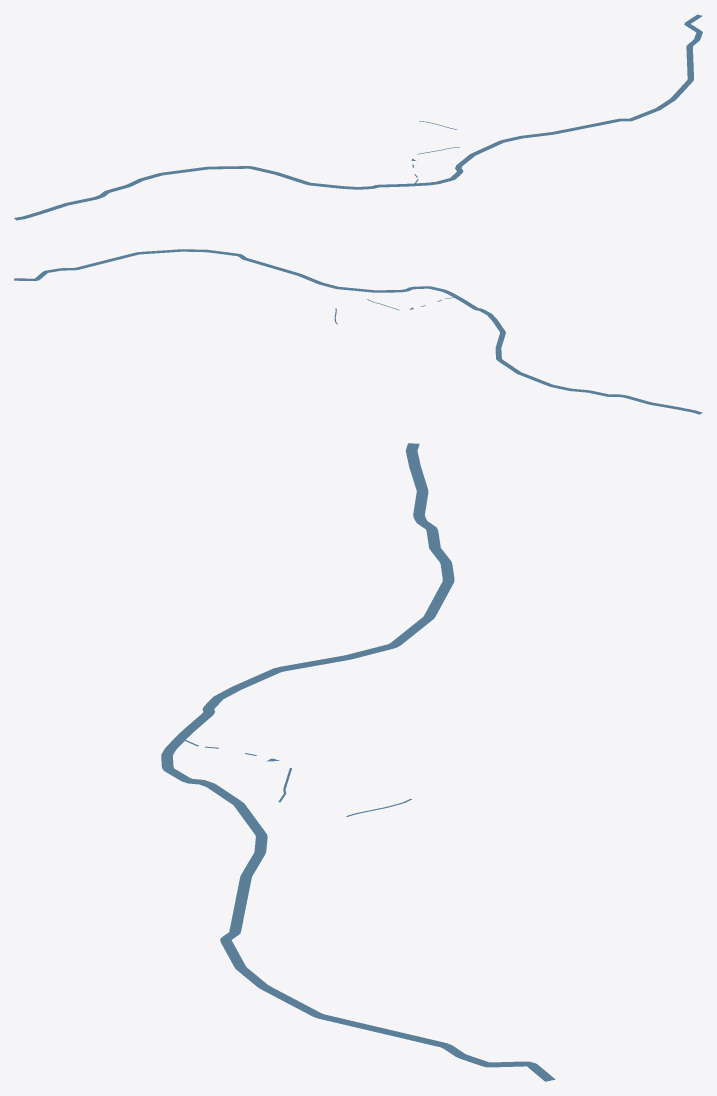
File: c_1646_17834_water.glb
The picture shows the model from 3 angles, top to bottom: view 1: azimuth 30°, elevation 25°; view 2: azimuth 150°, elevation 25°; view 3: azimuth 270°, elevation 25°; orthographic projection. The views are drawn at different scales.
Visible parts, largest first — view 1: geometry_0; view 2: geometry_0; view 3: geometry_0.
Part boxes in pixels (left/top/right/bottom): geometry_0: left=14, top=14, right=702, bottom=220; geometry_0: left=14, top=249, right=702, bottom=414; geometry_0: left=161, top=443, right=555, bottom=1081.
Size of the model in its own units: 1545 by 0.01 by 403.
